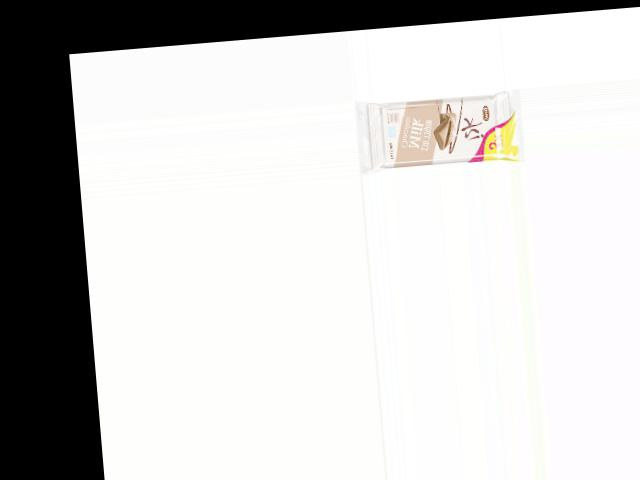chocolate: (369, 87, 525, 173)
